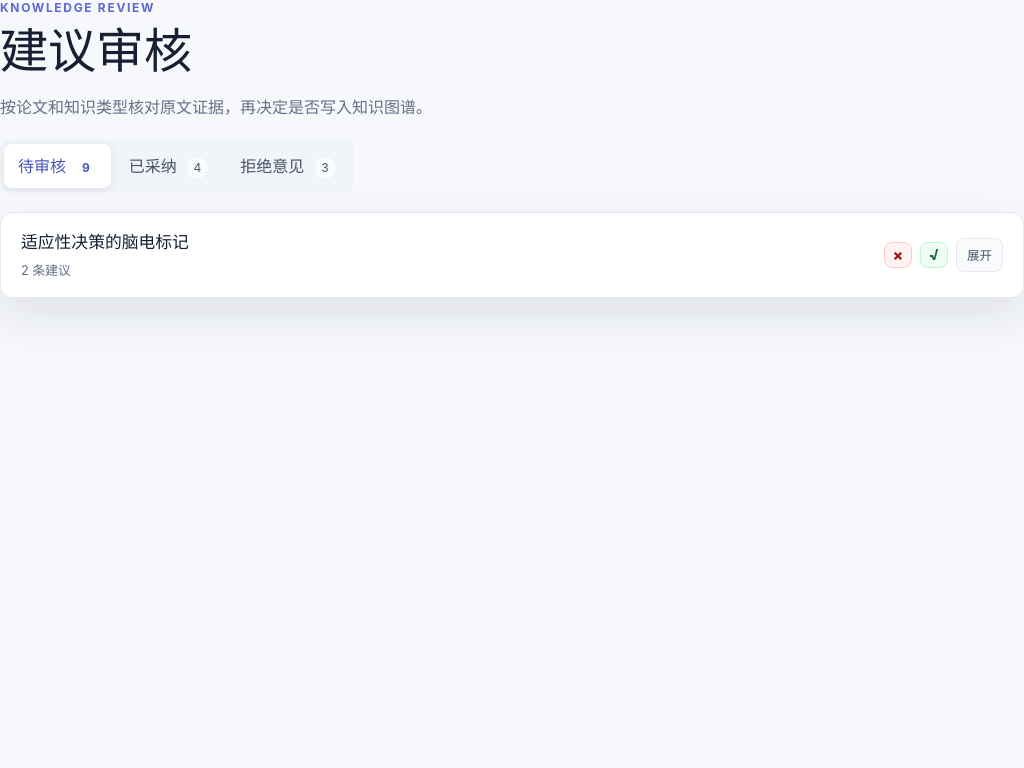
Test: SuggestionReviewPage v05 behavior › shows backend counts and skips batch accept items without defaults
Expected: the tab "待审核 9" is shown, [4, 144, 111, 188]
Expected: the tab "已采纳 4" is shown, [115, 144, 222, 188]
Click the button named "批量采纳整篇论文": (934, 255) [920, 242, 948, 268]
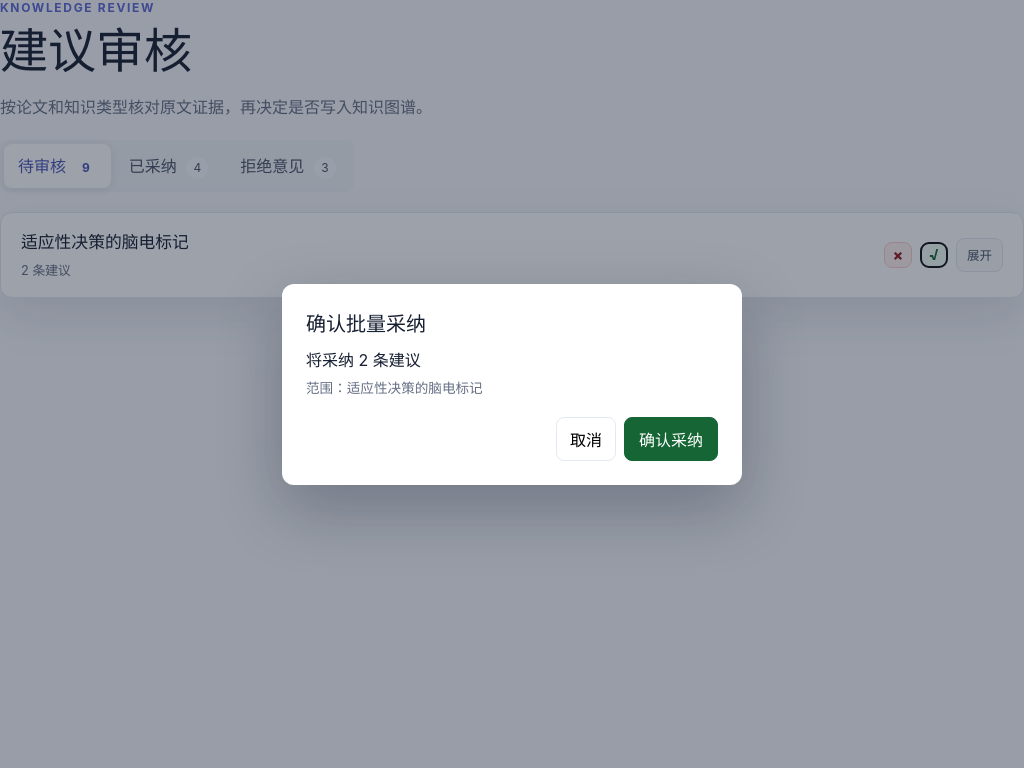
Click the button "确认采纳": (671, 438) [624, 416, 718, 460]
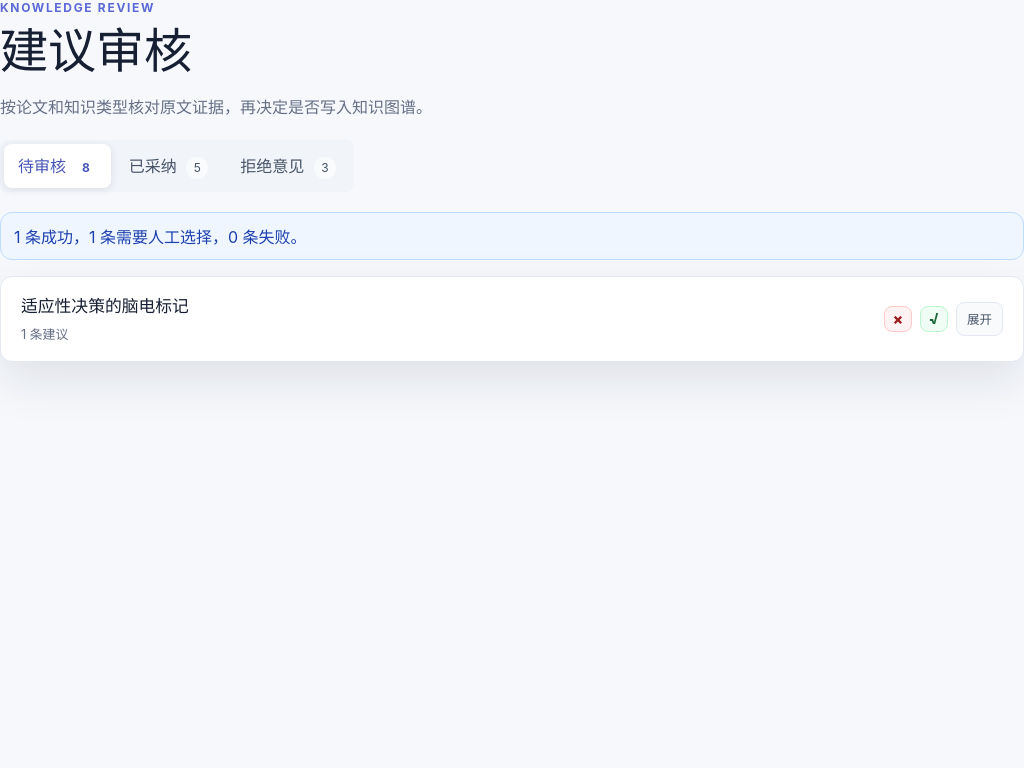
Result: the message shows "1 条成功，1 条需要人工选择，0 条失败" at [14, 227, 307, 247]
